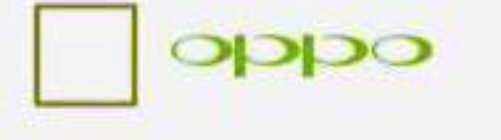CheckBox: (1, 1, 500, 139)
